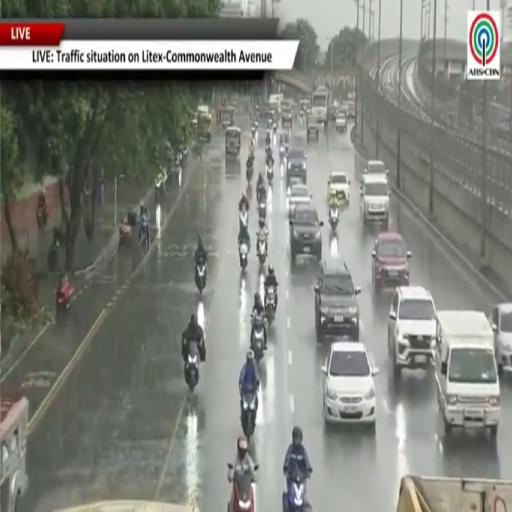car: (322, 342, 378, 424), (388, 286, 437, 378), (314, 259, 360, 343), (372, 232, 411, 291), (289, 203, 323, 263), (360, 175, 390, 227), (490, 303, 511, 372), (288, 184, 311, 218), (286, 148, 306, 187), (328, 171, 350, 201), (358, 160, 389, 181), (307, 114, 319, 141), (335, 109, 347, 133), (282, 106, 293, 127), (343, 101, 355, 119), (327, 104, 339, 121)
jeepney: (0, 392, 28, 511), (225, 126, 241, 156), (198, 114, 211, 141), (221, 107, 234, 127), (282, 104, 293, 127), (299, 99, 311, 117)
motorcycle: (228, 463, 254, 511), (283, 473, 311, 511), (241, 392, 257, 442), (186, 343, 199, 392), (251, 316, 264, 363), (56, 280, 73, 315), (119, 212, 136, 246), (264, 286, 276, 325), (195, 259, 206, 293), (47, 240, 59, 271), (256, 238, 268, 264), (140, 219, 149, 251), (119, 223, 131, 246), (37, 205, 46, 232), (155, 176, 164, 202), (329, 207, 339, 230), (239, 244, 248, 269), (258, 197, 266, 218), (239, 211, 248, 229), (266, 165, 273, 185), (246, 162, 253, 182), (279, 146, 285, 165), (265, 140, 270, 154), (285, 142, 289, 158), (251, 124, 255, 138), (273, 121, 277, 134)
truck: (397, 475, 511, 511), (312, 86, 329, 124), (269, 93, 284, 114)
